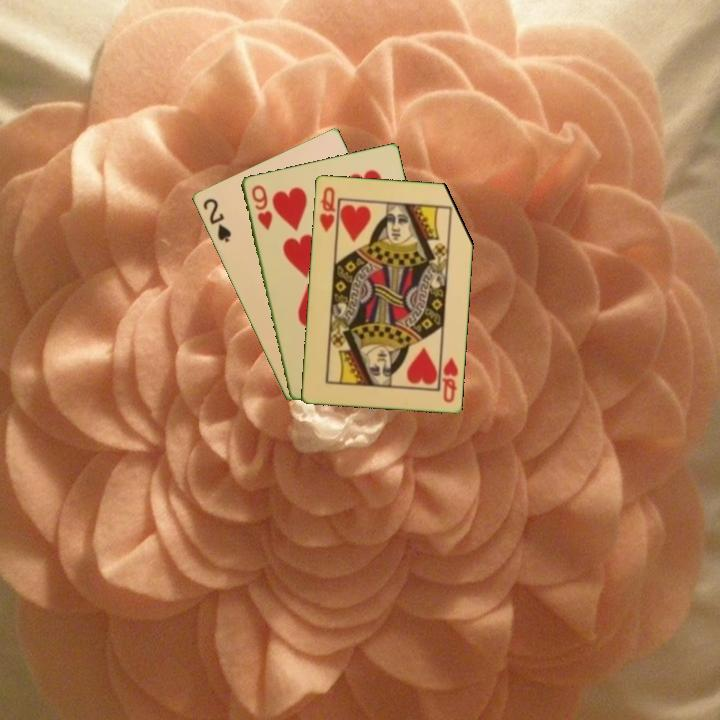2s: (199, 194, 234, 245)
9h: (248, 181, 275, 233)
Qh: (436, 353, 461, 405), (316, 183, 338, 235)
